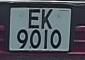0: (29, 28, 43, 51), (49, 28, 63, 51)
1: (42, 28, 50, 51)
9: (49, 28, 63, 50), (15, 29, 29, 51)
E: (26, 7, 41, 31)
K: (40, 8, 54, 31)
